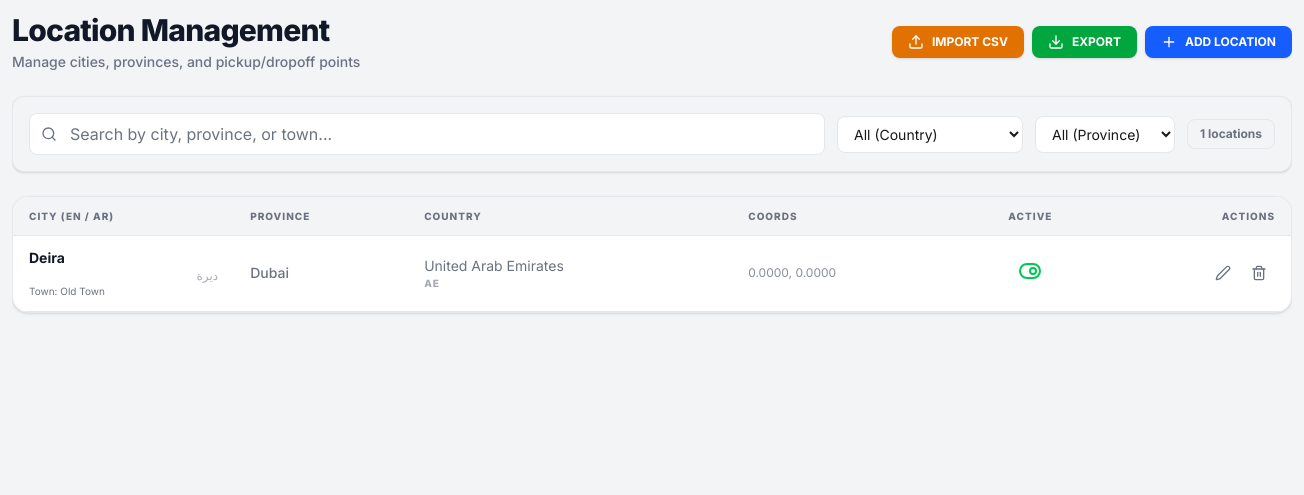
Scenario: LocationsPage › renders country code and zero coordinates, and searches Arabic fields
Expected: the text "AE" is shown, [424,277,440,289]
Expected: the text "0.0000, 0.0000" is shown, [732,236,959,311]
Type "البلدة" into the field with placeholder "Search by city, province, or town..." at (427, 134), box [29,113,825,155]
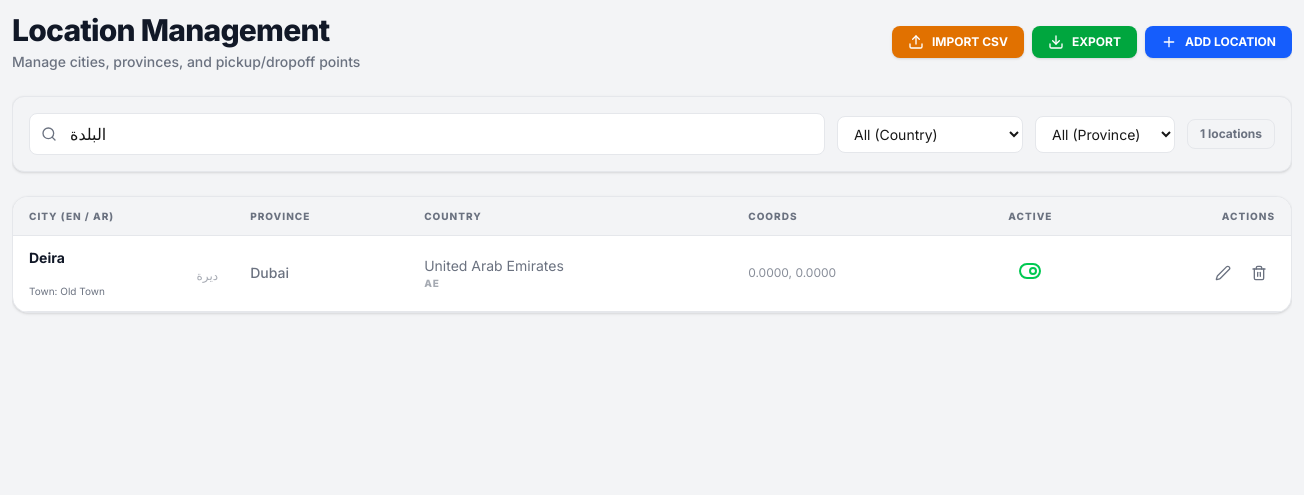
Expected: the text "Deira" is shown, [29,249,65,266]
Replace the text in the field with placeholder "Search by city, province, or town..." with "Aleppo" at (427, 134), box [29,113,825,155]
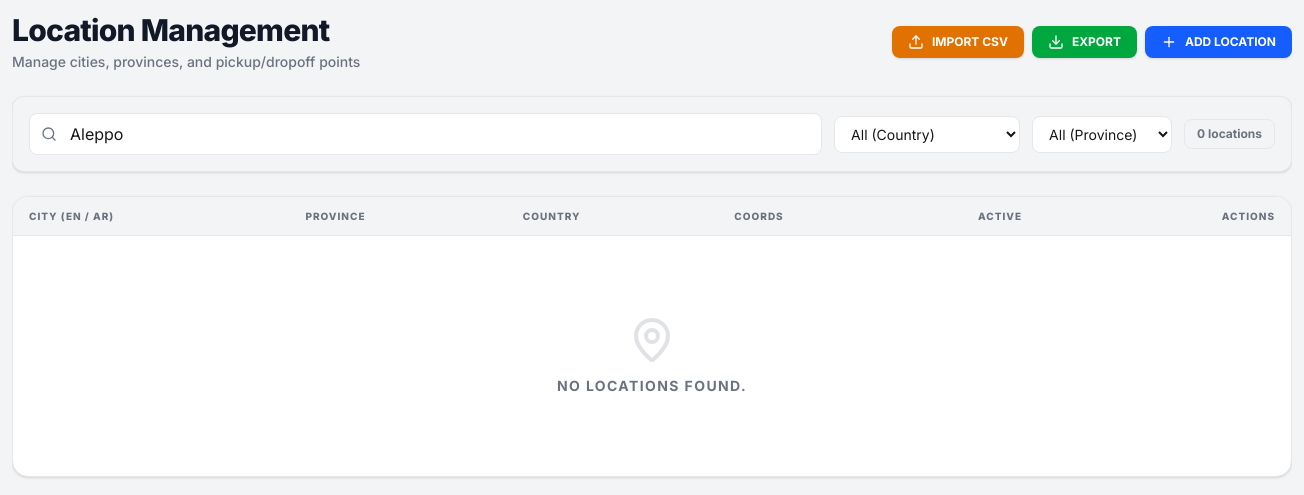
Now the text "No locations found." is shown, box [557,377,747,394]
